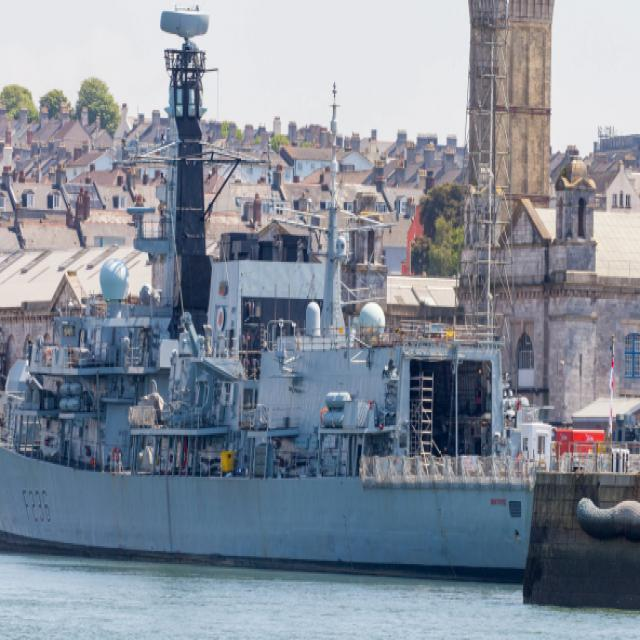Fragata: (1, 1, 565, 568)
